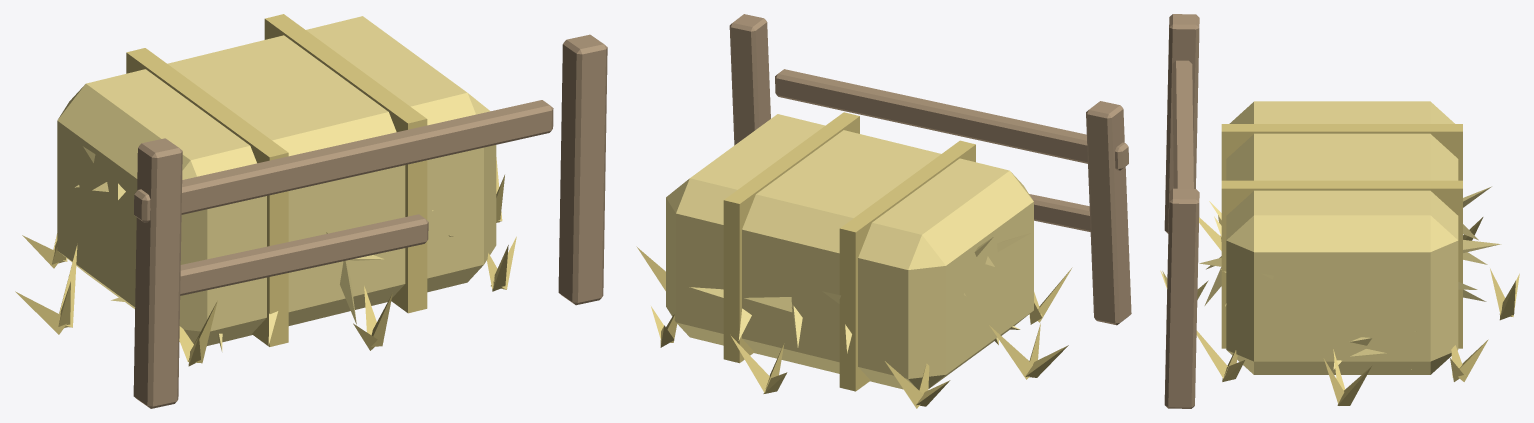
The model's file is Strawman_Seat.fbx.
3 renders of one model, left to right at view 1: azimuth 30°, elevation 25°; view 2: azimuth 150°, elevation 25°; view 3: azimuth 270°, elevation 25°, orthographic. The views are drawn at different scales.
Parts seen in each view (by area): view 1: StrawmanSeat_Bale_Straw, StrawmanSeat_Rail_Pole, StrawmanSeat_Cords_StrawDark, StrawmanSeat_Grass_StrawDark; view 2: StrawmanSeat_Bale_Straw, StrawmanSeat_Rail_Pole, StrawmanSeat_Cords_StrawDark, StrawmanSeat_Grass_StrawDark; view 3: StrawmanSeat_Bale_Straw, StrawmanSeat_Rail_Pole, StrawmanSeat_Cords_StrawDark, StrawmanSeat_Grass_StrawDark.
Part boxes in pixels (x1,y1,x2,y2): StrawmanSeat_Bale_Straw: (57, 16, 496, 351); StrawmanSeat_Rail_Pole: (133, 34, 607, 408); StrawmanSeat_Cords_StrawDark: (126, 14, 427, 346); StrawmanSeat_Grass_StrawDark: (15, 157, 516, 366); StrawmanSeat_Bale_Straw: (666, 114, 1033, 389); StrawmanSeat_Rail_Pole: (729, 14, 1131, 325); StrawmanSeat_Cords_StrawDark: (723, 112, 975, 391); StrawmanSeat_Grass_StrawDark: (636, 246, 1072, 408); StrawmanSeat_Bale_Straw: (1199, 101, 1501, 374); StrawmanSeat_Rail_Pole: (1164, 14, 1199, 408); StrawmanSeat_Cords_StrawDark: (1221, 124, 1462, 348); StrawmanSeat_Grass_StrawDark: (1160, 215, 1519, 405).
Size of the model in its own units: 4.18 by 2.04 by 3.1.
